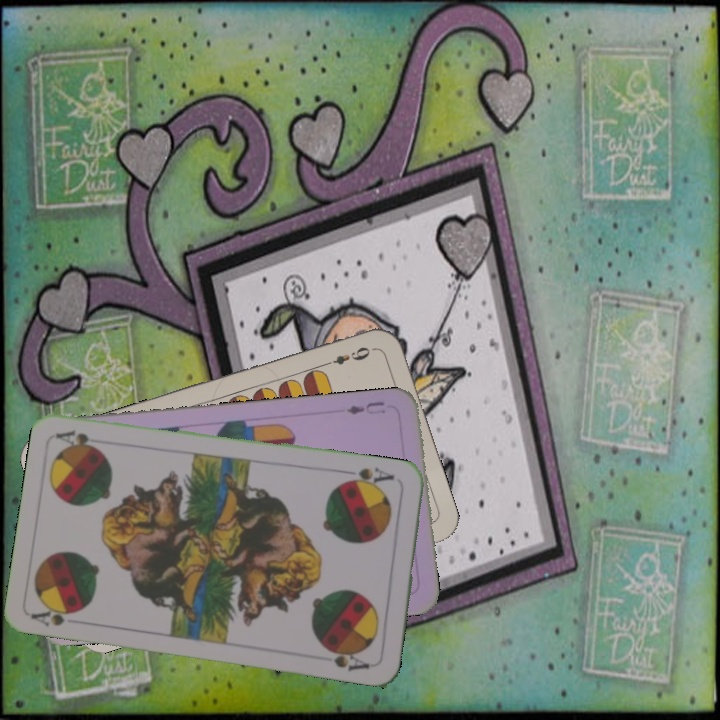E9: (320, 342, 373, 369)
EU: (343, 397, 388, 417)
SA: (28, 600, 86, 629), (342, 463, 397, 491)
